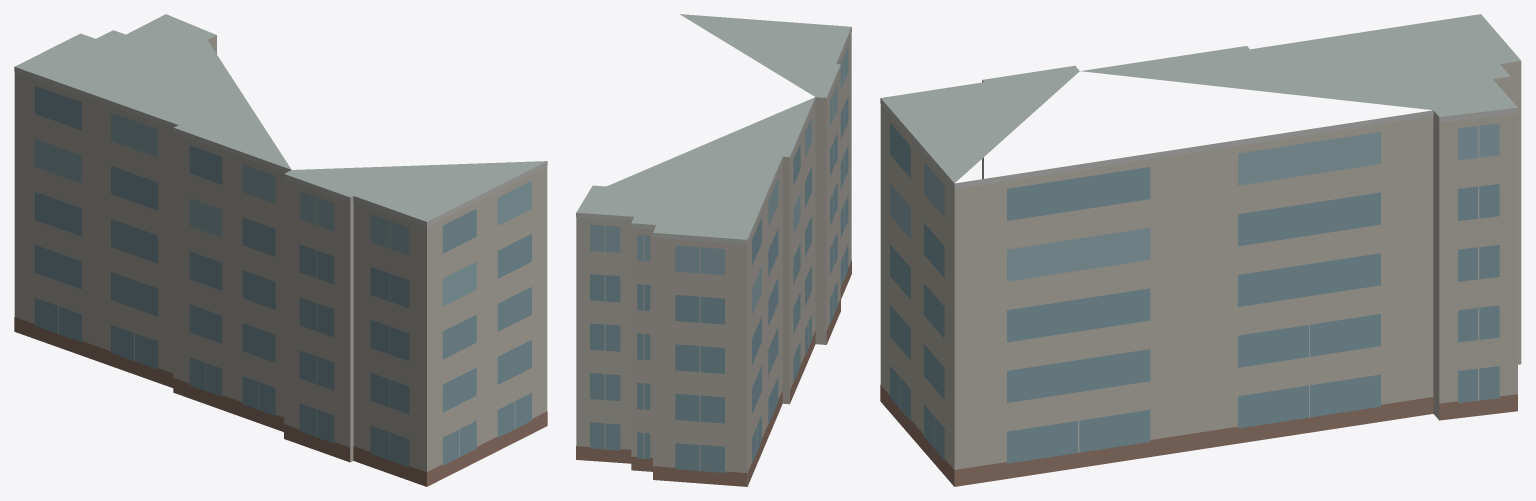
The model's file is survey-upis-32741654.glb.
3 renders of one model, left to right at view 1: azimuth 30°, elevation 25°; view 2: azimuth 150°, elevation 25°; view 3: azimuth 270°, elevation 25°, orthographic. The views are drawn at different scales.
Parts seen in each view (by area): view 1: survey-upis-32741654.tmp; view 2: survey-upis-32741654.tmp; view 3: survey-upis-32741654.tmp.
Boxes of the visible parts, x1,y1,x2,y2 form: survey-upis-32741654.tmp: (14,14,547,486); survey-upis-32741654.tmp: (576,14,851,486); survey-upis-32741654.tmp: (880,14,1521,486).
Bounding box in the file's own units: 15.31 × 12.78 × 24.46.
